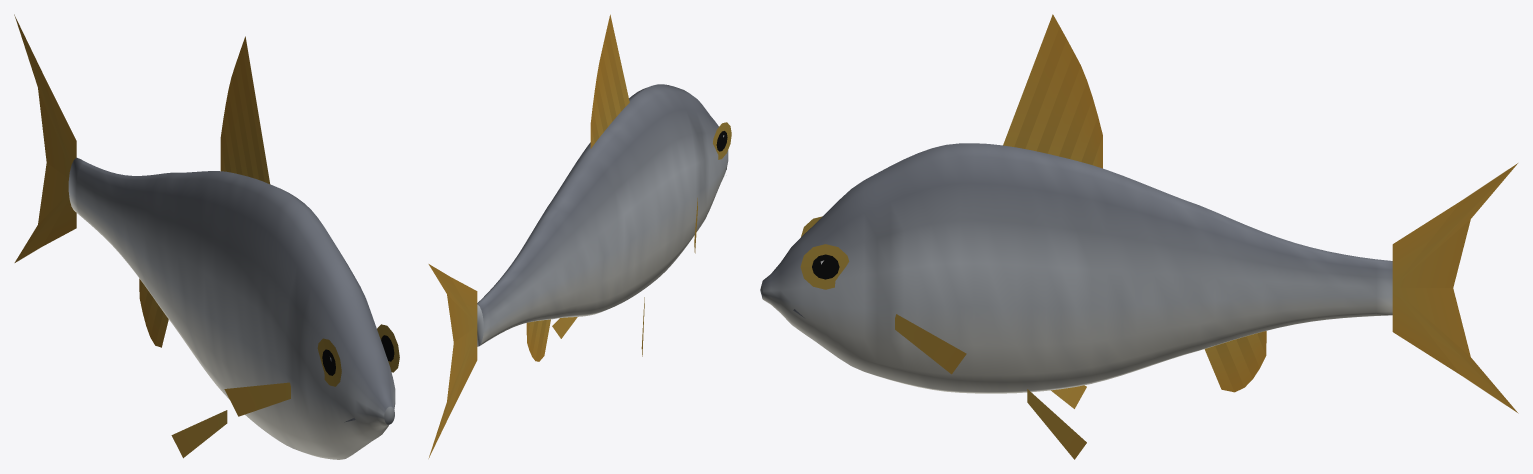
The model's file is lampam.fbx.
3 views of the same model, side by side, from view 1: azimuth 30°, elevation 25°; view 2: azimuth 150°, elevation 25°; view 3: azimuth 270°, elevation 25° (orthographic). The views are drawn at different scales.
Parts seen in each view (by area): view 1: lampam; view 2: lampam; view 3: lampam.
Part boxes in pixels (<box>): lampam: <box>14,14,399,459</box>; lampam: <box>428,14,731,458</box>; lampam: <box>760,14,1518,459</box>.
Bounding box in the file's own units: 0.2356 × 0.7367 × 1.2.
